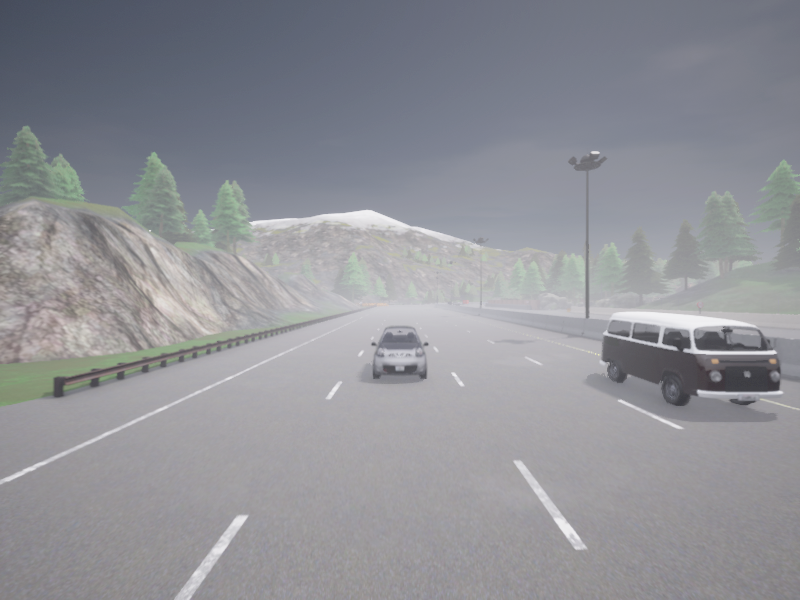vehicle: (599, 312, 782, 405), (371, 325, 428, 378), (463, 300, 469, 304), (446, 301, 451, 304), (453, 302, 457, 304), (456, 303, 460, 305), (483, 302, 485, 303)
